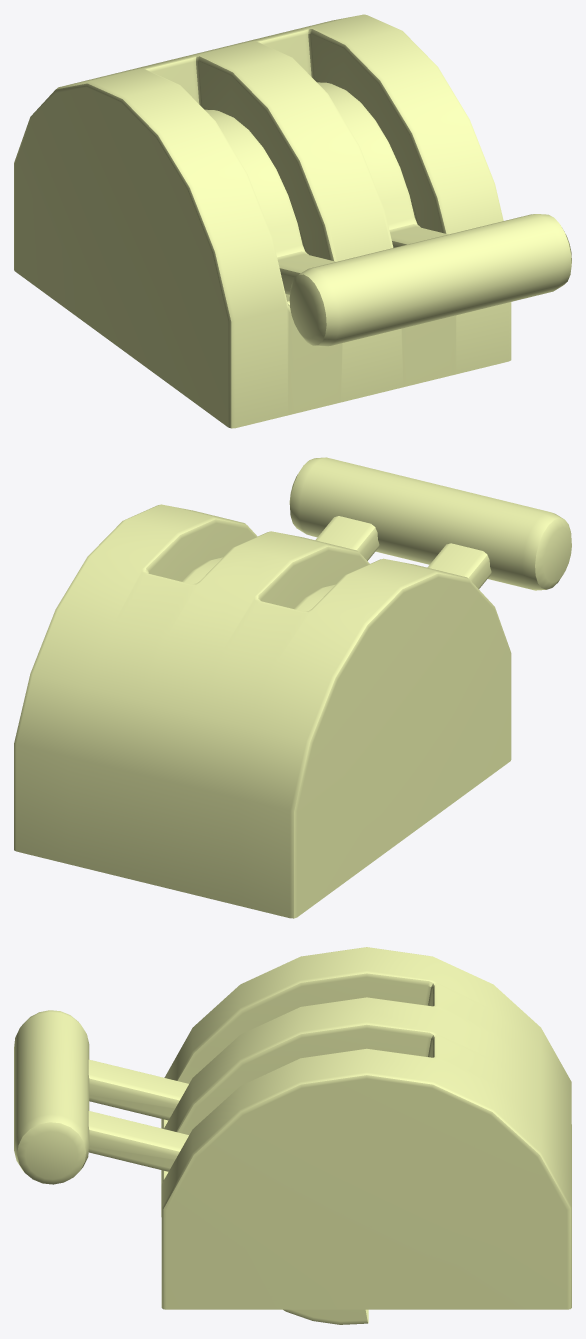
File: Lever_V2.fbx
3 views of the same model, one above another, from view 1: azimuth 30°, elevation 25°; view 2: azimuth 150°, elevation 25°; view 3: azimuth 270°, elevation 25° (orthographic). The views are drawn at different scales.
Parts seen in each view (by area): view 1: lever_base, lever_handle, lever; view 2: lever_base, lever_handle, lever; view 3: lever_base, lever_handle, lever.
Part boxes in pixels (x1,y1,x2,y2): lever_base: (14, 14, 511, 428); lever_handle: (289, 214, 571, 346); lever: (205, 82, 448, 301); lever_base: (14, 504, 511, 918); lever_handle: (289, 457, 571, 590); lever: (182, 516, 491, 611); lever_base: (161, 947, 571, 1309); lever_handle: (14, 1010, 89, 1184); lever: (88, 1059, 368, 1324).
Size of the model in its own units: 0.2835 by 0.2885 by 0.5173.
